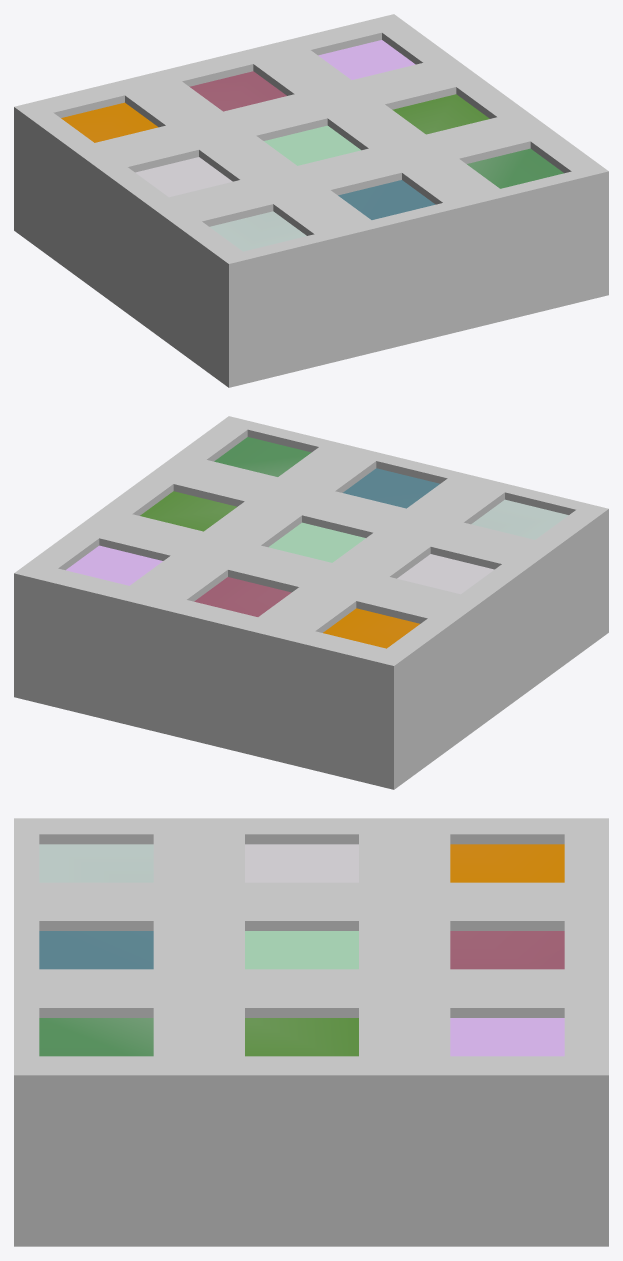
File: SaladBar.fbx
The picture shows the model from 3 angles, top to bottom: view 1: azimuth 30°, elevation 25°; view 2: azimuth 150°, elevation 25°; view 3: azimuth 270°, elevation 25°; orthographic projection. The views are drawn at different scales.
Visible parts, largest first — view 1: Cube; view 2: Cube; view 3: Cube.
Boxes of the visible parts, bbox=[...] form: Cube: bbox=[14, 14, 608, 387]; Cube: bbox=[14, 416, 608, 789]; Cube: bbox=[14, 818, 608, 1246].
Bounding box in the file's own units: 642 × 200 × 629.
